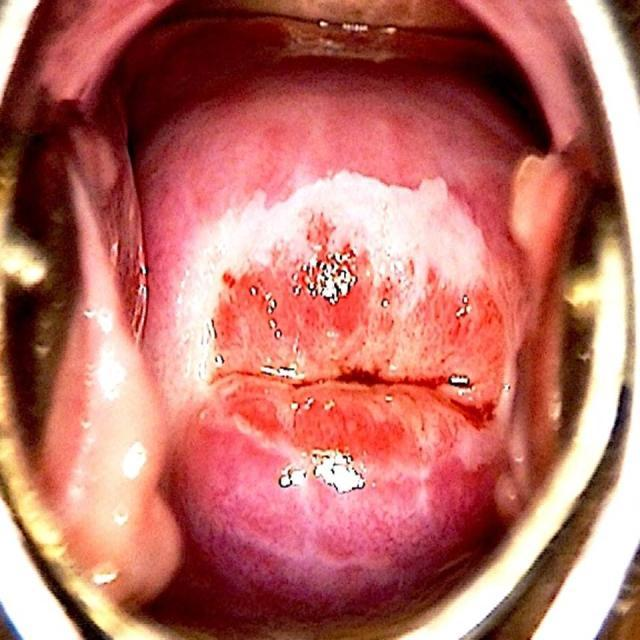cervical_lesion: (165, 167, 529, 523)
